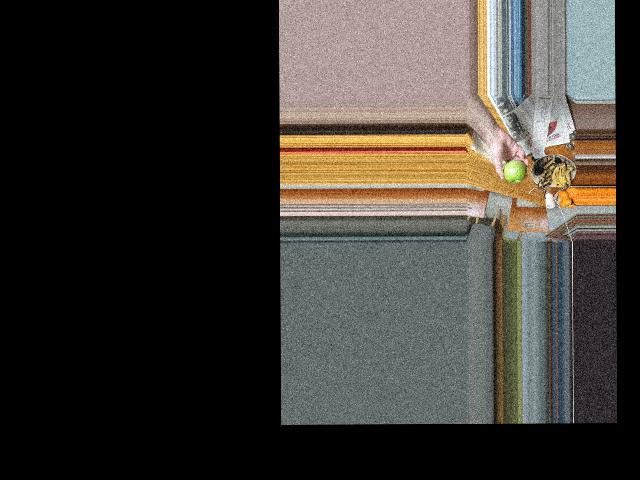apple: (501, 159, 523, 183)
